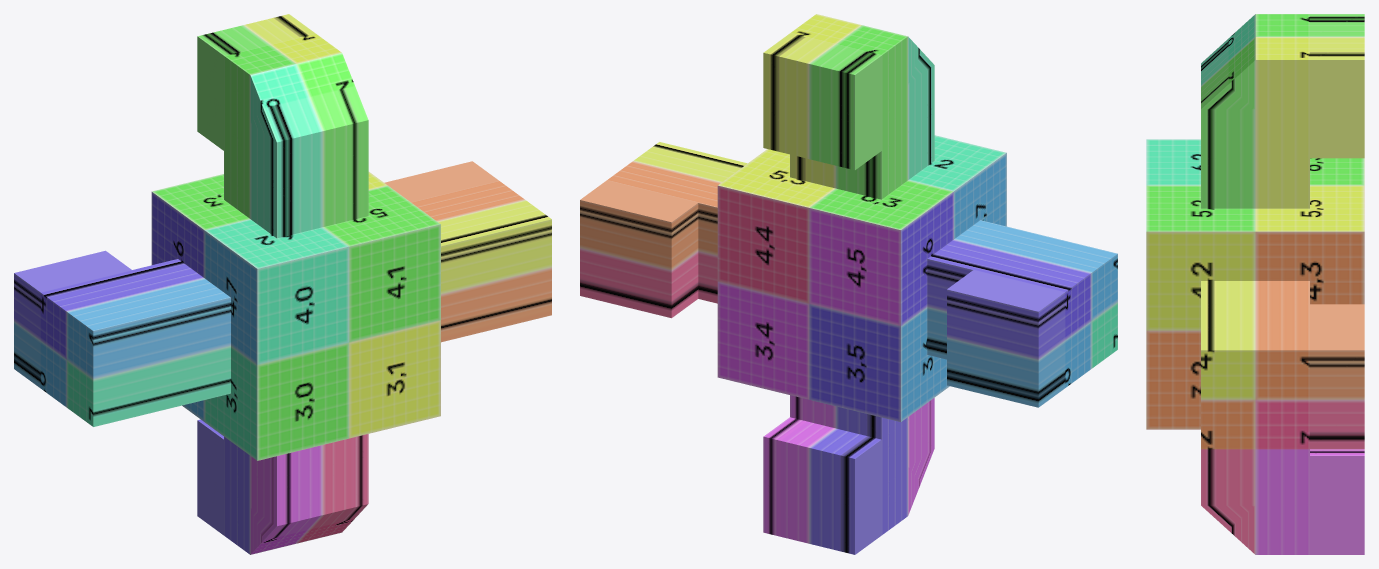
The model's file is bossEnemy.obj.
The picture shows the model from 3 angles, left to right: view 1: azimuth 30°, elevation 25°; view 2: azimuth 150°, elevation 25°; view 3: azimuth 270°, elevation 25°; orthographic projection. The views are drawn at different scales.
Parts seen in each view (by area): view 1: Cube; view 2: Cube; view 3: Cube.
Part boxes in pixels (left/top/right/bottom): Cube: left=14, top=14, right=551, bottom=554; Cube: left=580, top=14, right=1117, bottom=554; Cube: left=1146, top=14, right=1364, bottom=554.
Bounding box in the file's own units: 5 × 5 × 2.
1 material, 1 textured.
